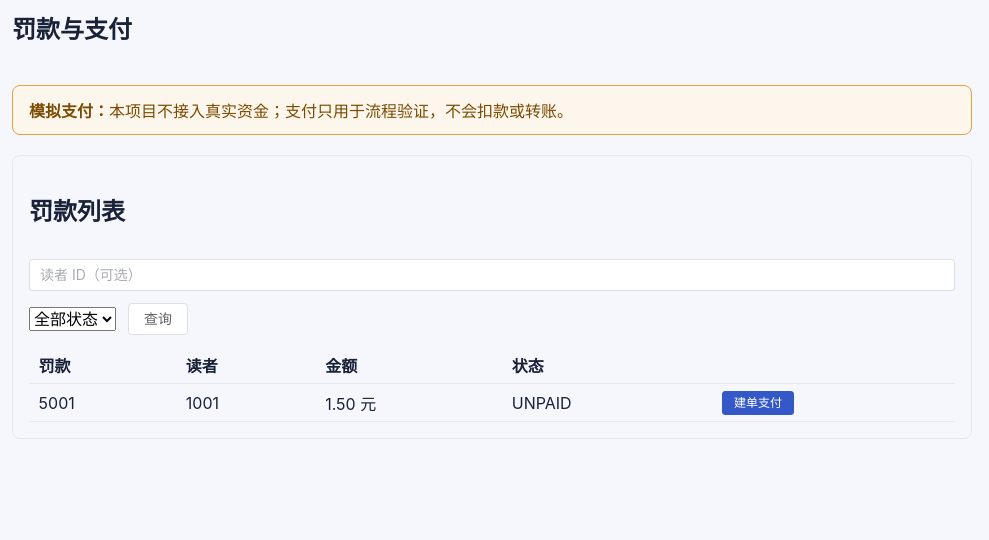
it: FineSettlementView › presents concurrent order creation conflicts without changing the fine
Click the button with test id "create-order-5001": (758,403) x1=722 y1=391 x2=794 y2=415
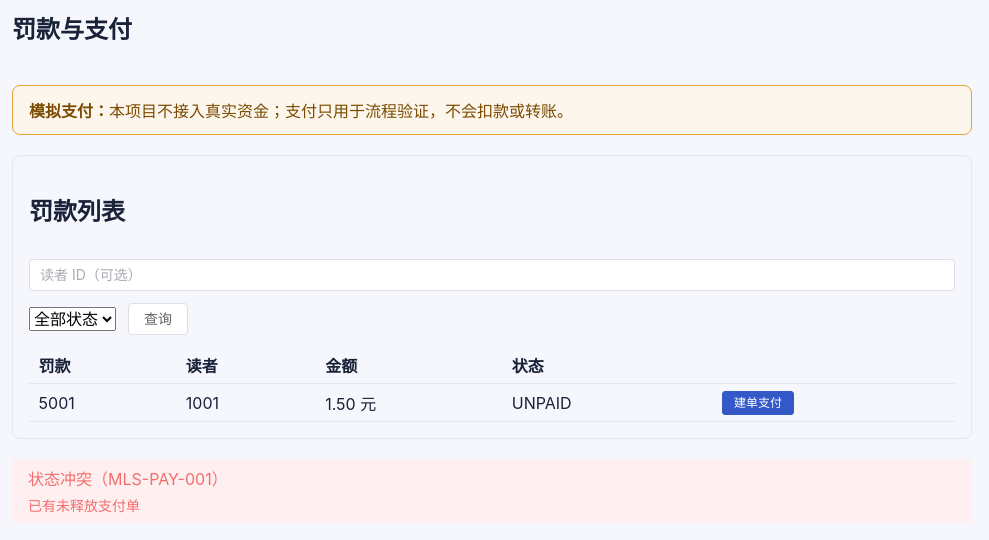
Check: the table with test id "fines-table" is shown, box x1=29 y1=347 x2=955 y2=422
Check: the element with test id "error-alert" shows "MLS-PAY-001", box x1=28 y1=469 x2=228 y2=489
